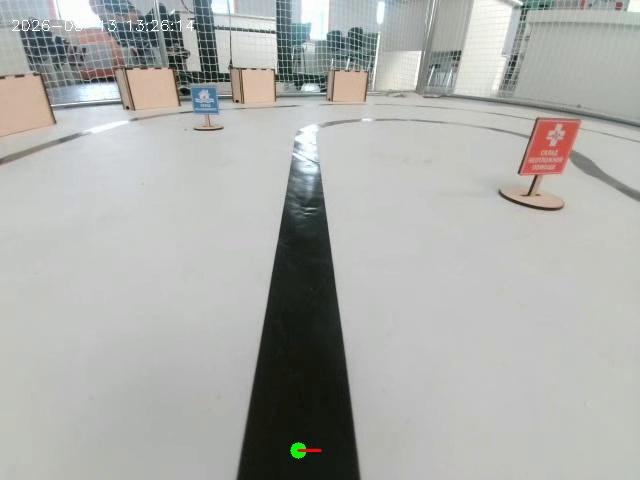flood: (187, 66, 228, 145)
medical: (506, 87, 600, 240)
